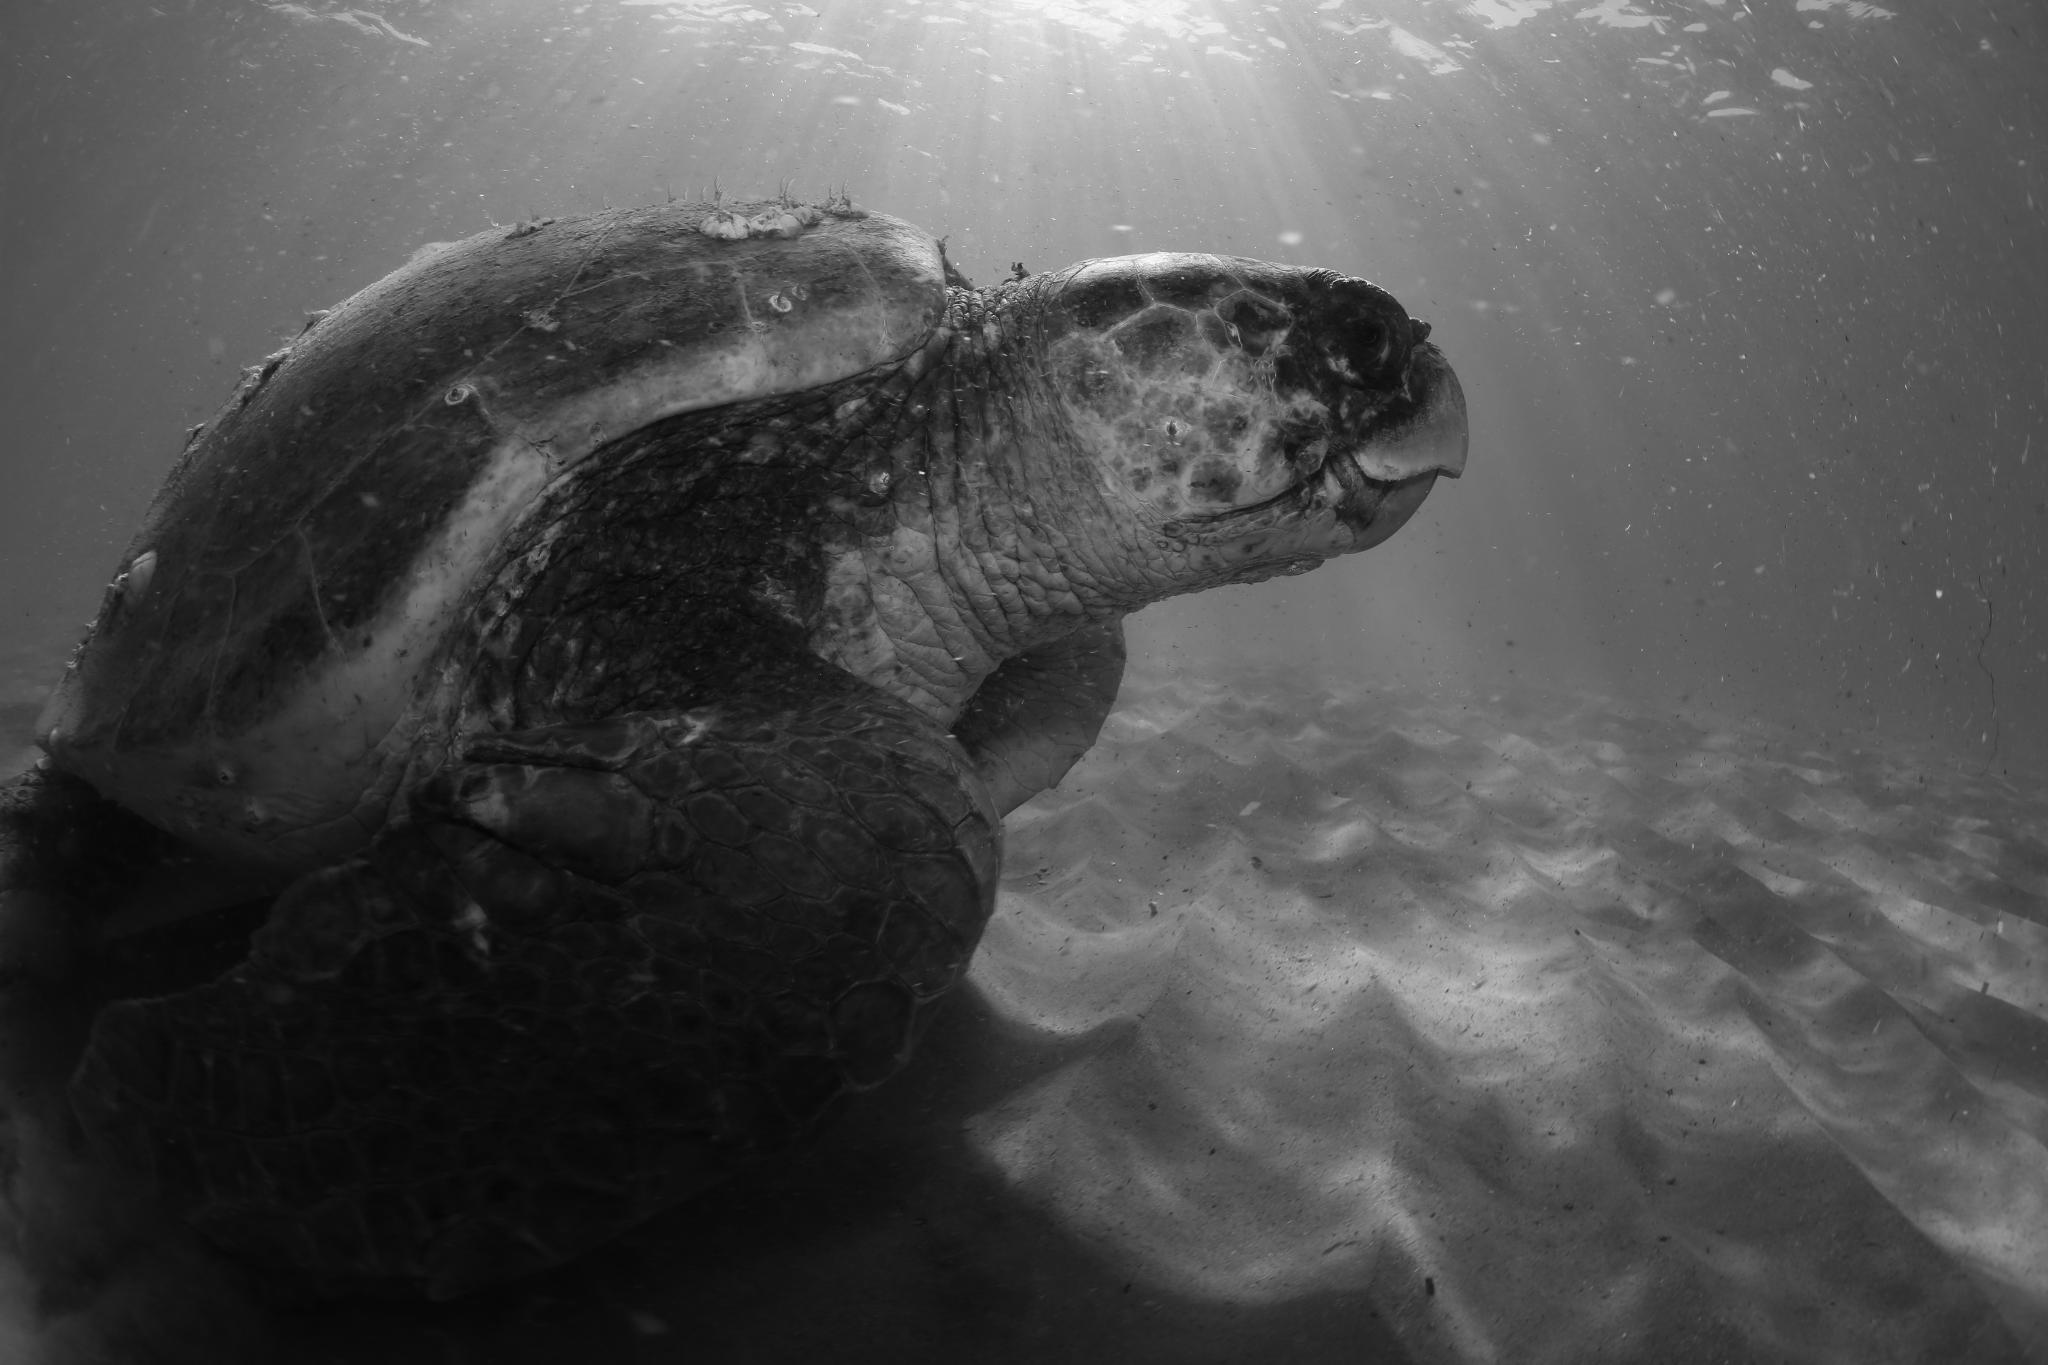Head: (970, 253, 1468, 659)
